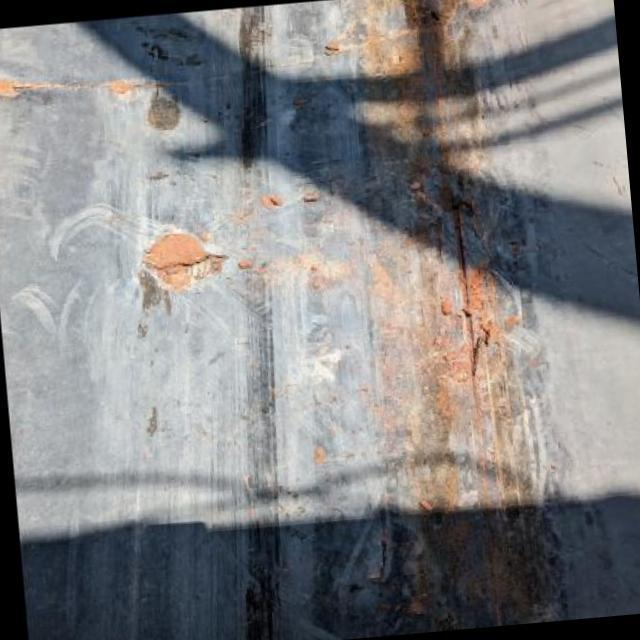Wear: (331, 0, 573, 628)
